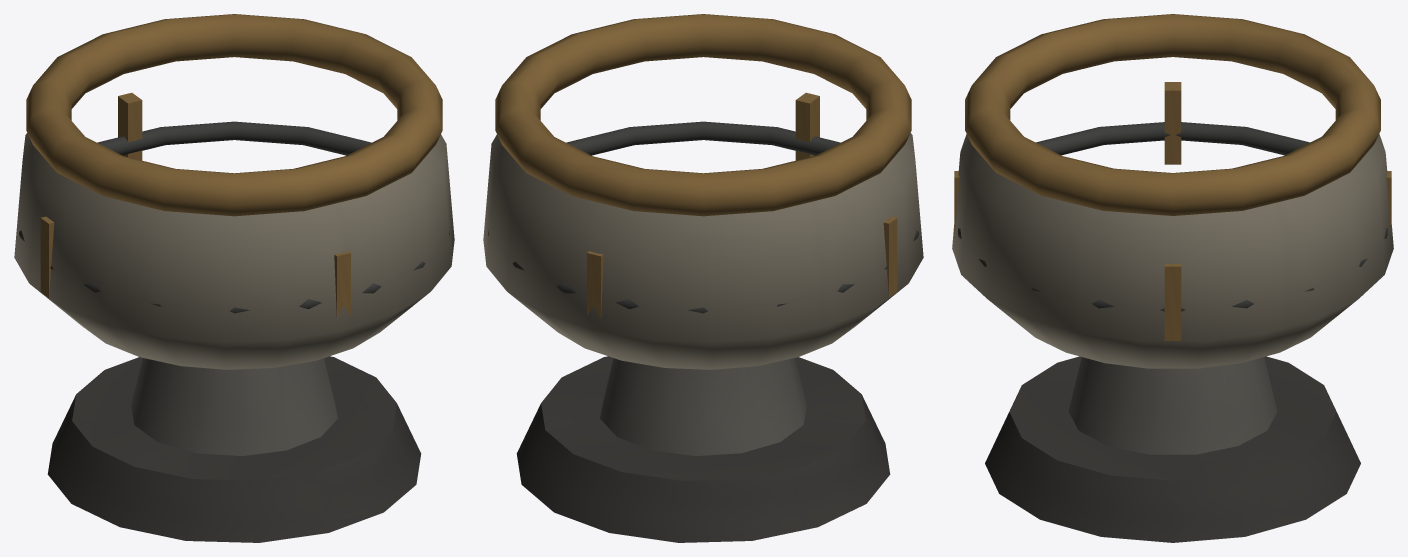
Rendered from sk-household-offering-bowl.glb.
3 renders of one model, left to right at view 1: azimuth 30°, elevation 25°; view 2: azimuth 150°, elevation 25°; view 3: azimuth 270°, elevation 25°, orthographic.
Visible parts, largest first — view 1: offering-bowl-vessel, household:offering_bowl-static-metal, offering-bowl-foot, offering-bowl-stem, offering-bowl-inlay; view 2: offering-bowl-vessel, household:offering_bowl-static-metal, offering-bowl-foot, offering-bowl-stem, offering-bowl-inlay; view 3: offering-bowl-vessel, household:offering_bowl-static-metal, offering-bowl-foot, offering-bowl-stem, offering-bowl-inlay.
Boxes of the visible parts, box(x1,y1,x2,y2) form: offering-bowl-vessel: box(14, 133, 454, 369); household:offering_bowl-static-metal: box(26, 14, 442, 319); offering-bowl-foot: box(47, 356, 421, 542); offering-bowl-stem: box(131, 358, 337, 456); offering-bowl-inlay: box(19, 121, 449, 313); offering-bowl-vessel: box(483, 133, 923, 369); household:offering_bowl-static-metal: box(495, 14, 911, 319); offering-bowl-foot: box(516, 356, 890, 542); offering-bowl-stem: box(600, 358, 806, 456); offering-bowl-inlay: box(488, 121, 918, 313); offering-bowl-vessel: box(952, 134, 1393, 368); household:offering_bowl-static-metal: box(954, 14, 1391, 340); offering-bowl-foot: box(985, 356, 1360, 542); offering-bowl-stem: box(1068, 357, 1277, 454); offering-bowl-inlay: box(958, 122, 1387, 311).
Size of the model in its own units: 0.535 by 0.498 by 0.54.
Materials: 5 (5 with a texture image).
